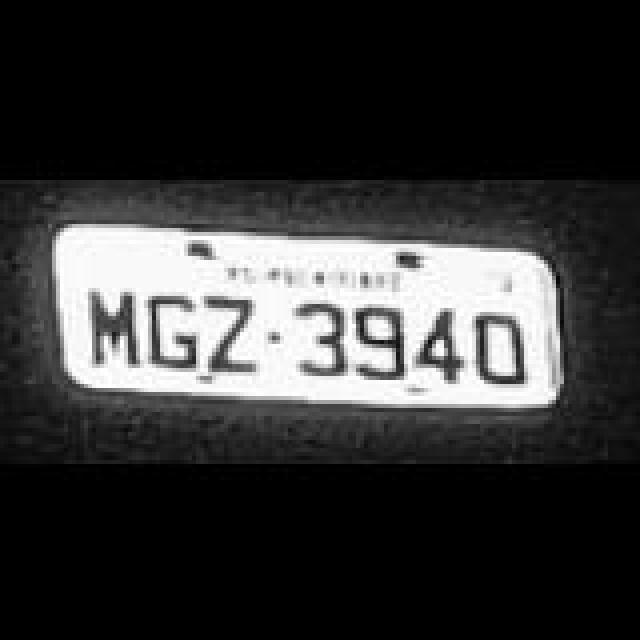3: (298, 298, 350, 374)
4: (416, 306, 464, 382)
9: (352, 302, 408, 378)
D: (472, 306, 528, 382)
G: (144, 290, 200, 366)
M: (90, 284, 142, 364)
Z: (204, 292, 260, 372)
